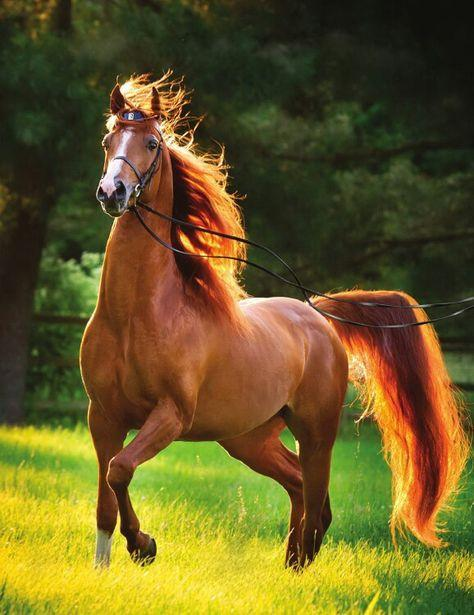horse: (78, 67, 472, 574)
